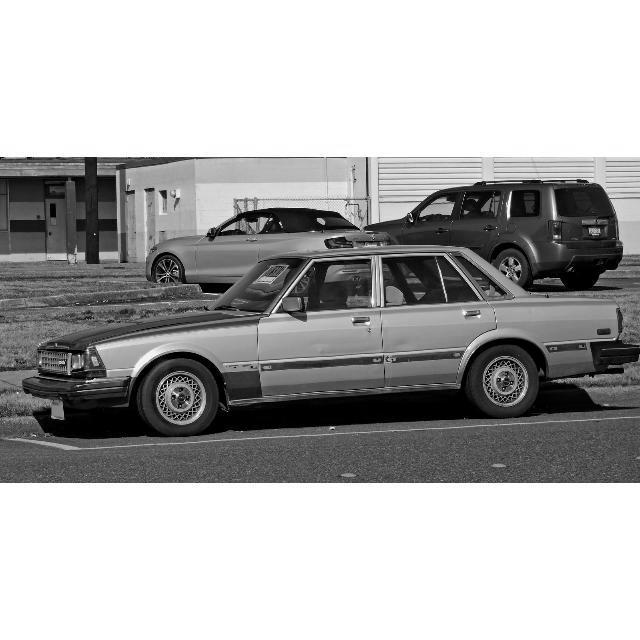doorouter-dent: (387, 316, 439, 385)
